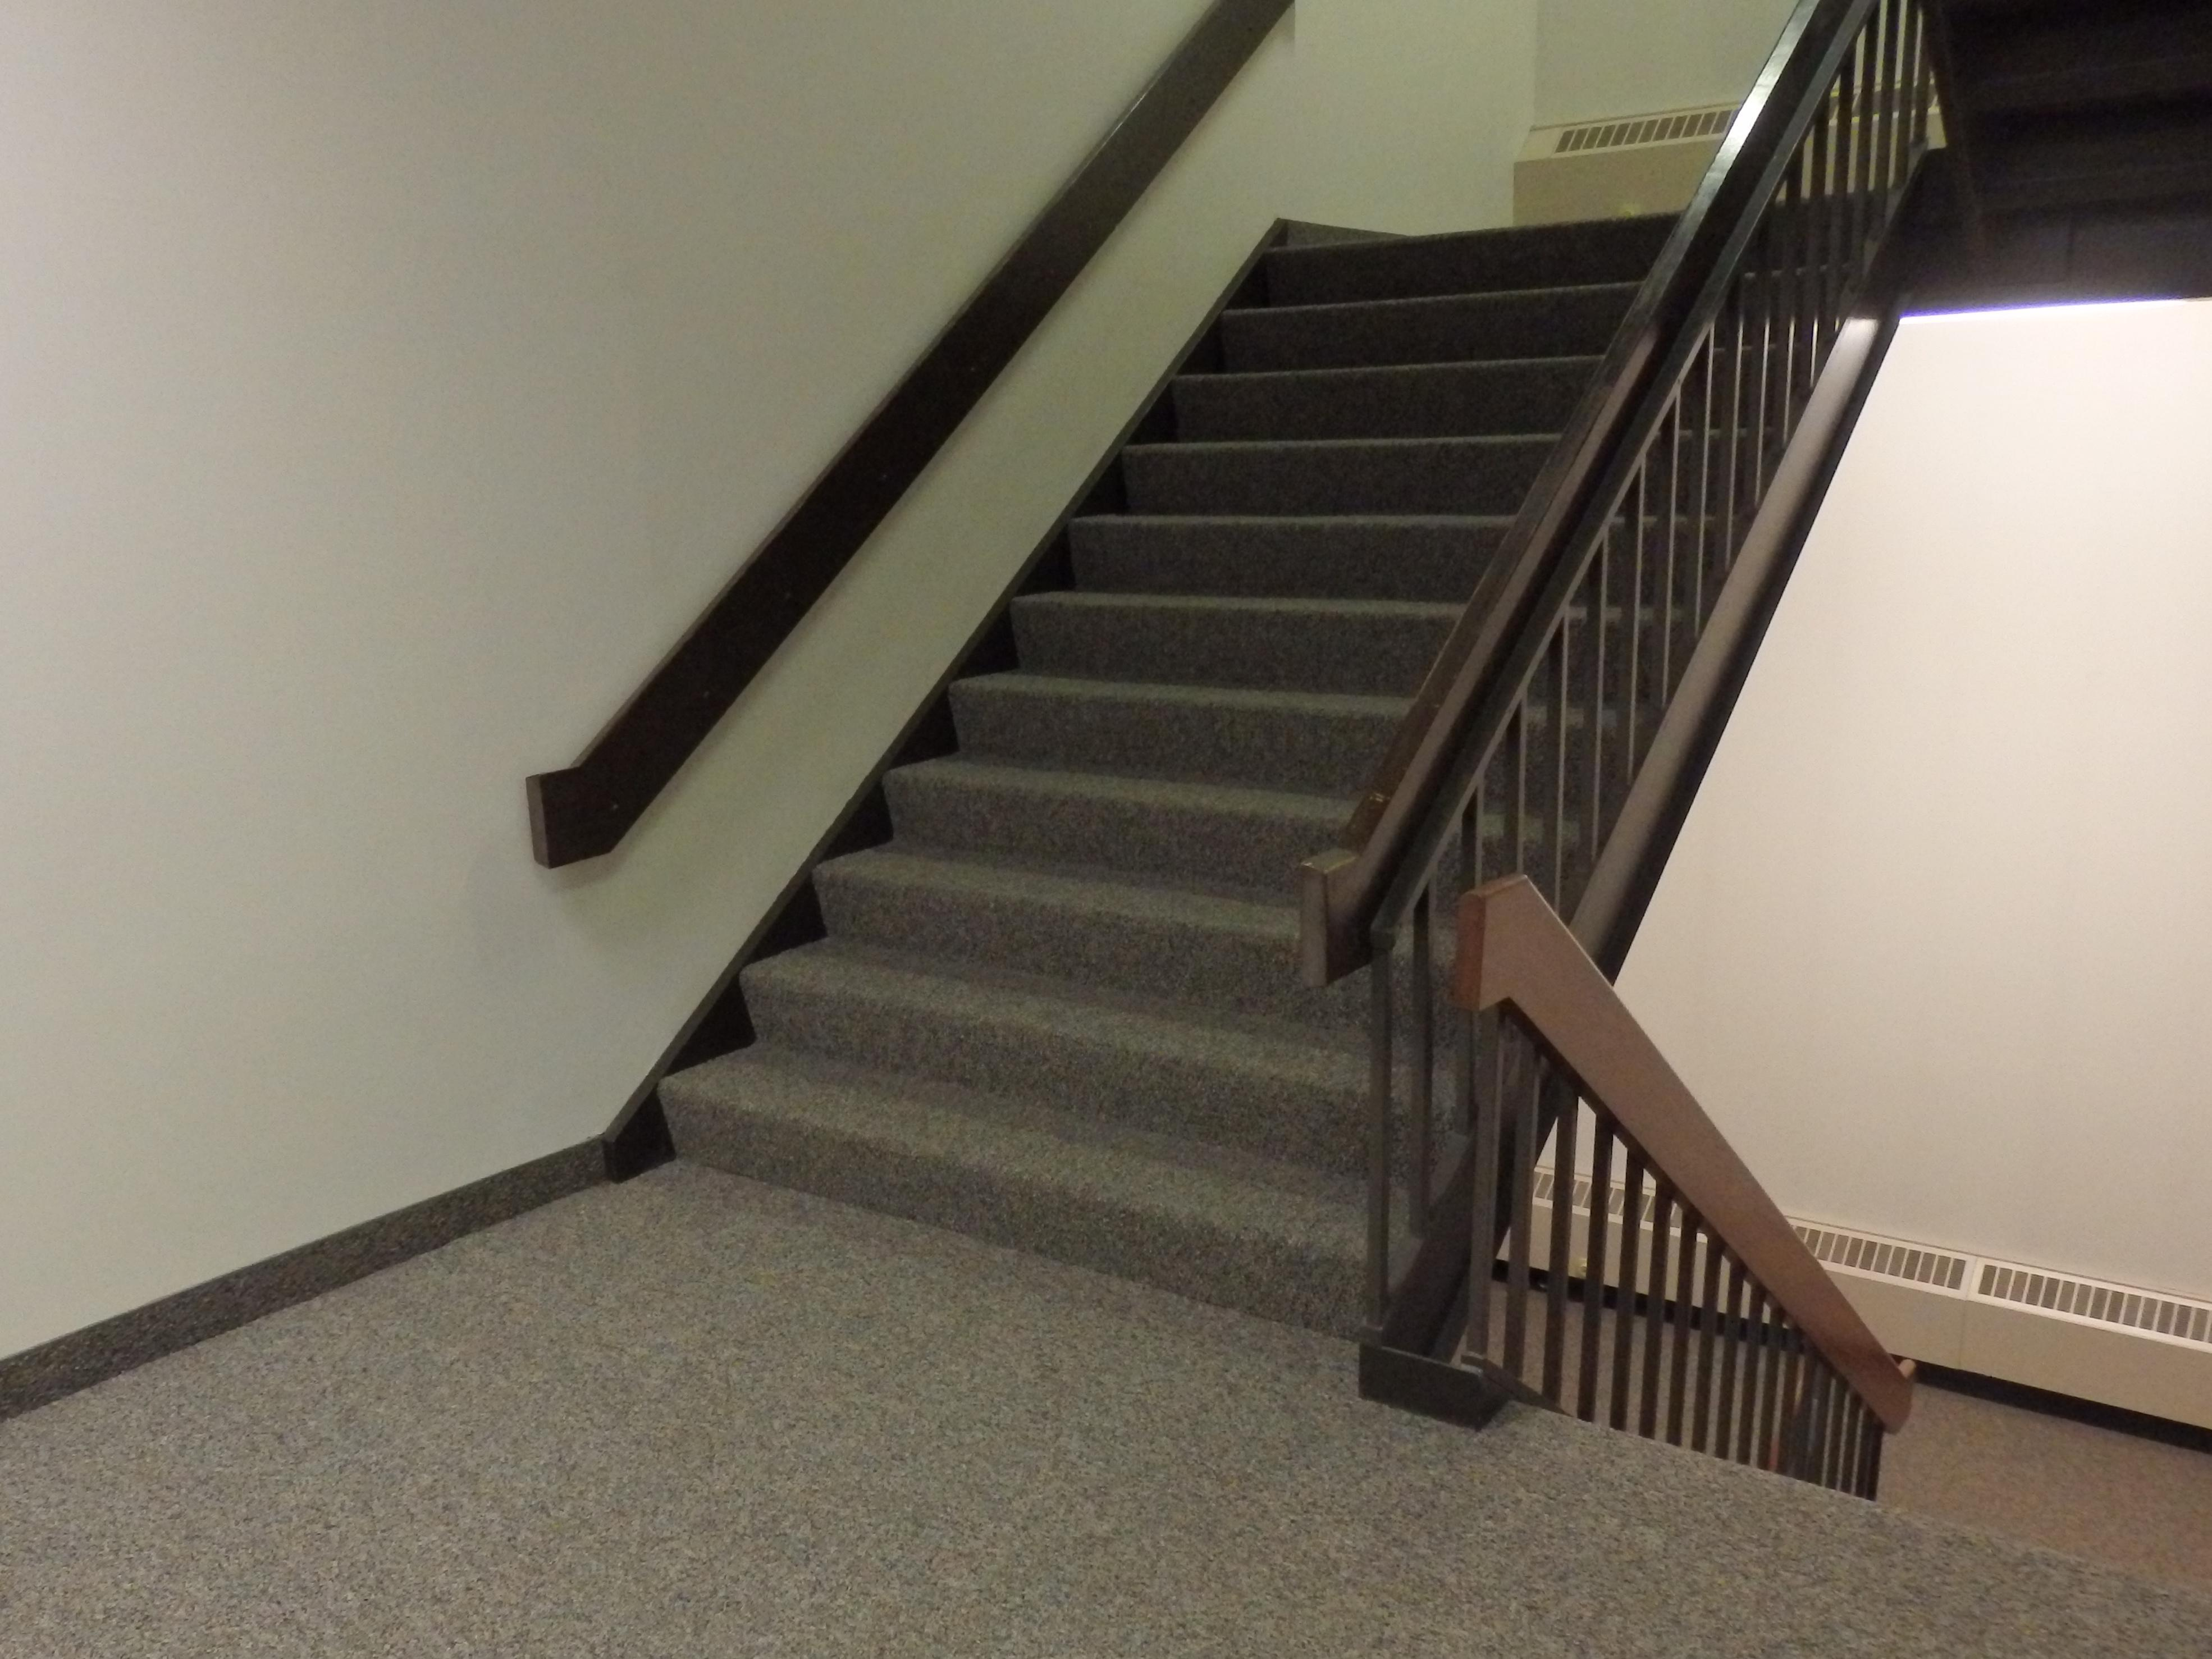stairs_up: (624, 162, 1794, 1290)
